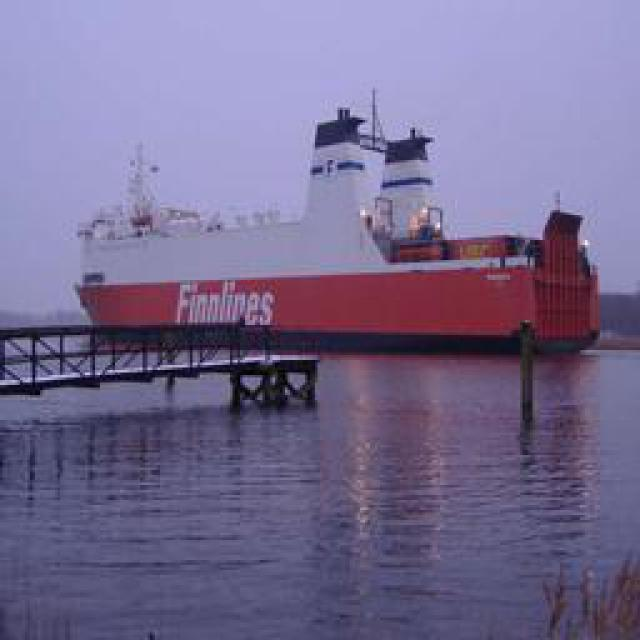Ship: (70, 95, 600, 350)
